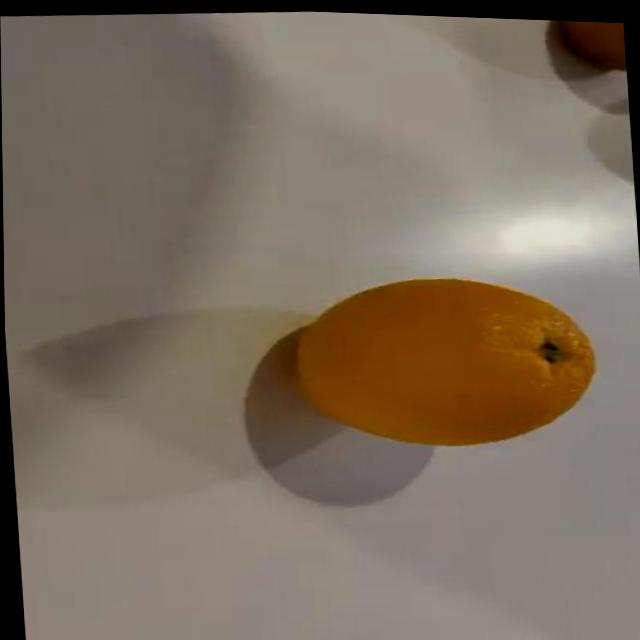Orange: (288, 262, 601, 457)
